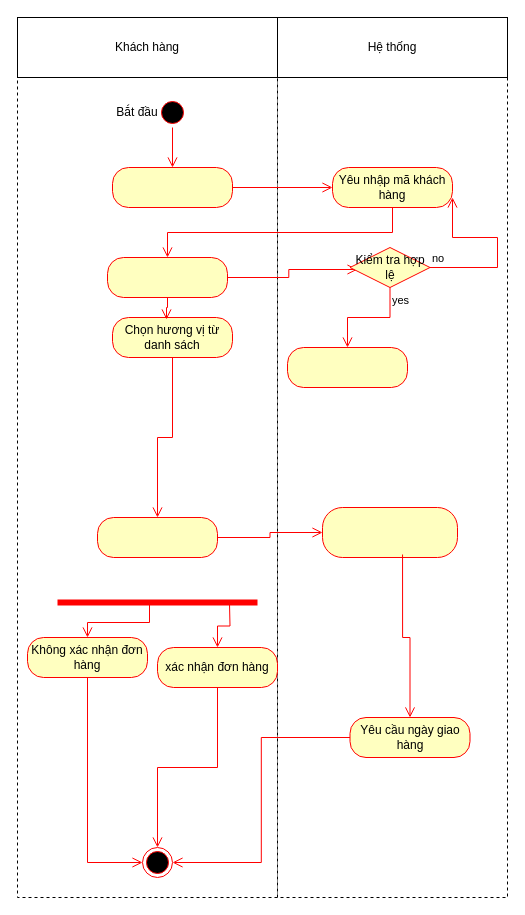
Some shapes in this 525 by 915 pixel diagram are drawn without their labels. Here are the shapes that lost their labels. From the top down, the centre of each, then its label:
At point (172, 187): "Nhấn nút ghi nhận đơn hàng".
At point (167, 277): "Nhập mã khách hàng".
At point (347, 367): "Hiển thị thông tin khách hàng".
At point (157, 537): "Chọn kích thước số lưởng".
At point (390, 532): "Kiểm tra tình trạng hàng,tính toán chi phí và yêu cầu xác nhận".
